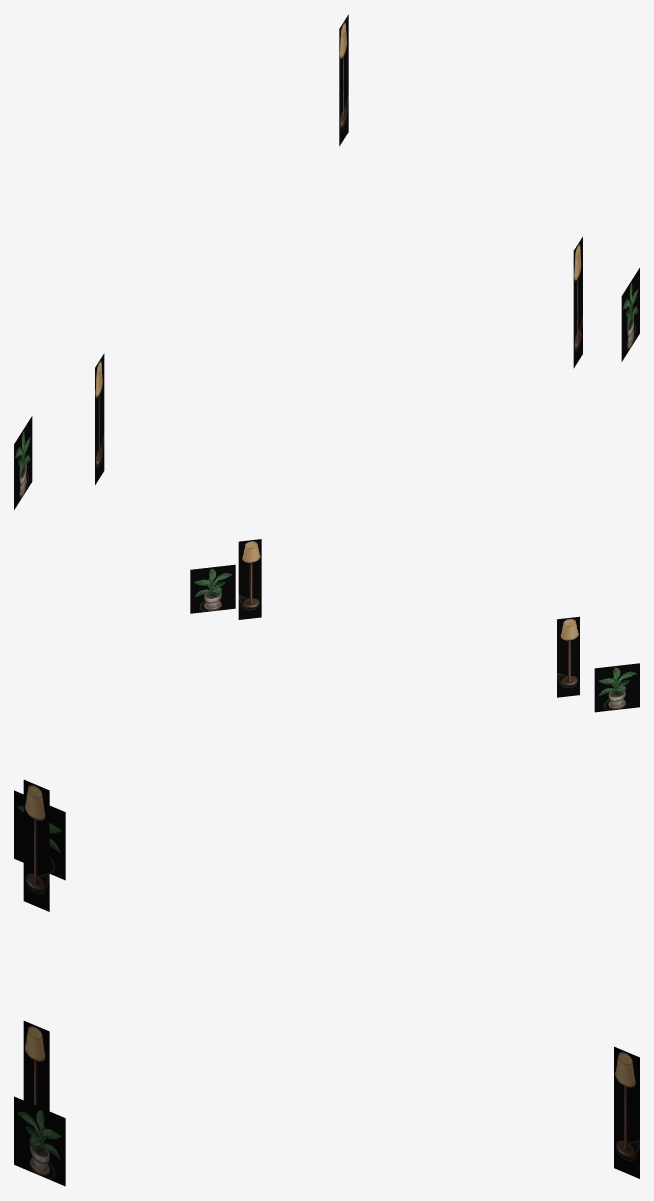
Rendered from K1_oldlamp.FBX.
The picture shows the model from 3 angles, top to bottom: view 1: azimuth 30°, elevation 25°; view 2: azimuth 150°, elevation 25°; view 3: azimuth 270°, elevation 25°; orthographic projection. The views are drawn at different scales.
Parts seen in each view (by area): view 1: cc_oldlamp_01, cc_oldlamp_00, cc_oldlamp_02, cc_oldlamp_04, cc_oldlamp_03; view 2: cc_oldlamp_01, cc_oldlamp_00, cc_oldlamp_03, cc_oldlamp_02; view 3: cc_oldlamp_01, cc_oldlamp_02, cc_oldlamp_04, cc_oldlamp_03, cc_oldlamp_00.
Boxes of the visible parts, x1,y1,x2,y2 form: cc_oldlamp_01: (621,268,639,361); cc_oldlamp_00: (14,416,32,509); cc_oldlamp_02: (95,353,104,484); cc_oldlamp_04: (339,14,348,146); cc_oldlamp_03: (573,236,582,368); cc_oldlamp_01: (190,564,235,613); cc_oldlamp_00: (594,663,639,712); cc_oldlamp_03: (238,539,261,619); cc_oldlamp_02: (557,616,579,697); cc_oldlamp_01: (14,1096,65,1186); cc_oldlamp_02: (23,779,49,911); cc_oldlamp_04: (614,1046,639,1178); cc_oldlamp_03: (23,1021,49,1111); cc_oldlamp_00: (14,790,65,880).
Size of the model in its own units: 398 by 69.32 by 321.
